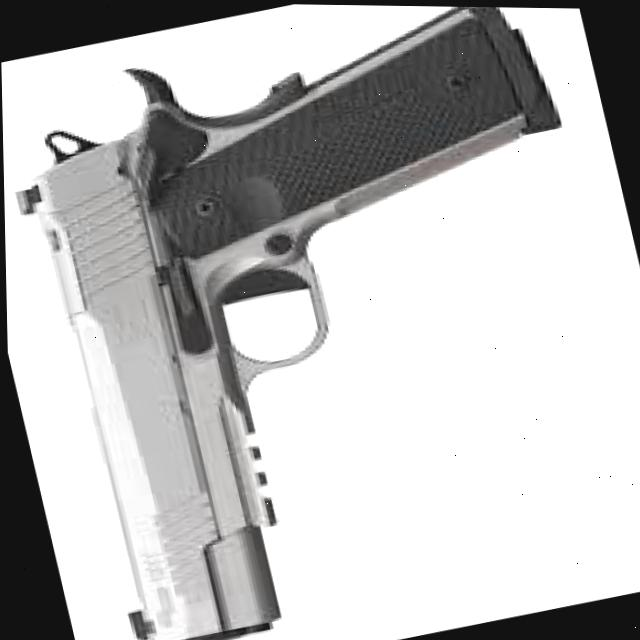gun: (14, 7, 562, 640)
